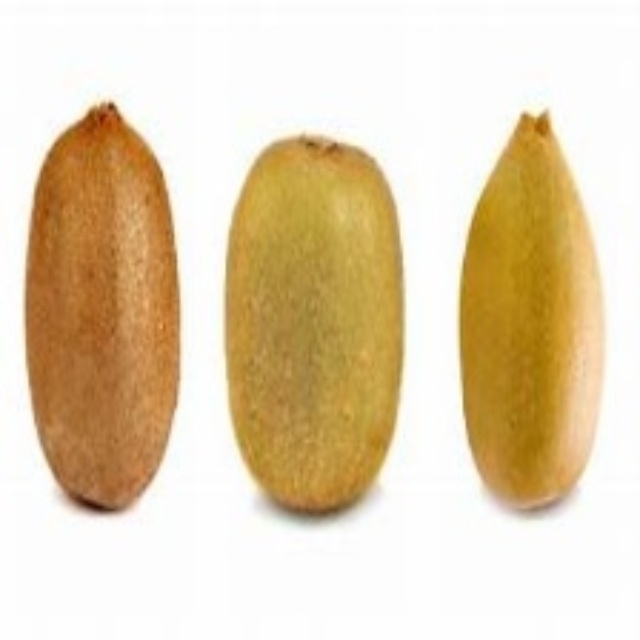kiwi: (200, 125, 413, 511), (451, 112, 618, 512), (31, 102, 169, 511)
